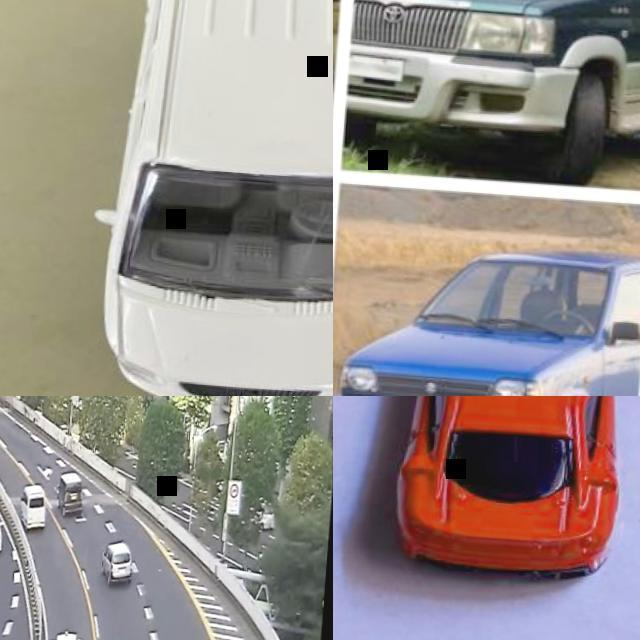car: (339, 249, 639, 615), (1, 387, 253, 637), (347, 0, 639, 183)
